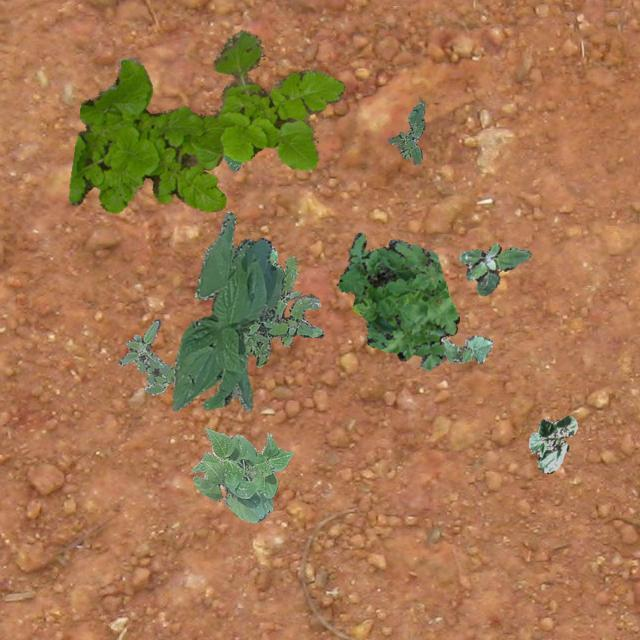crop: (172, 210, 284, 410), (190, 426, 292, 522), (528, 414, 576, 472), (441, 334, 492, 362)
weed: (68, 30, 342, 212), (336, 230, 458, 368), (240, 246, 322, 366), (118, 318, 172, 394), (460, 242, 530, 294), (386, 100, 424, 164), (222, 153, 240, 170)
